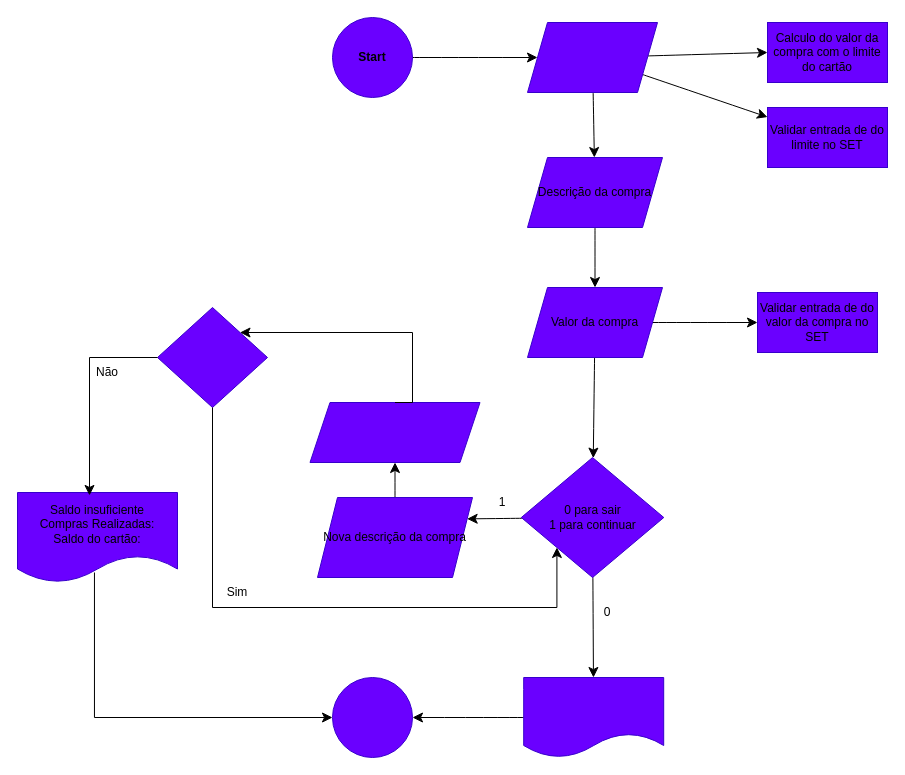
The diagram is 905 pixels wide and 775 high, and some of its shapes have lost their labels. Here are the shapes that lost their labels. From the top down, the centre of each, then its label:
point 592,57: Limite do cartão
point 212,357: Tem limite disponível?
point 394,432: Novo valor da compra
point 372,717: Fim
point 593,717: Compras realizadas: Saldo do cartão:
